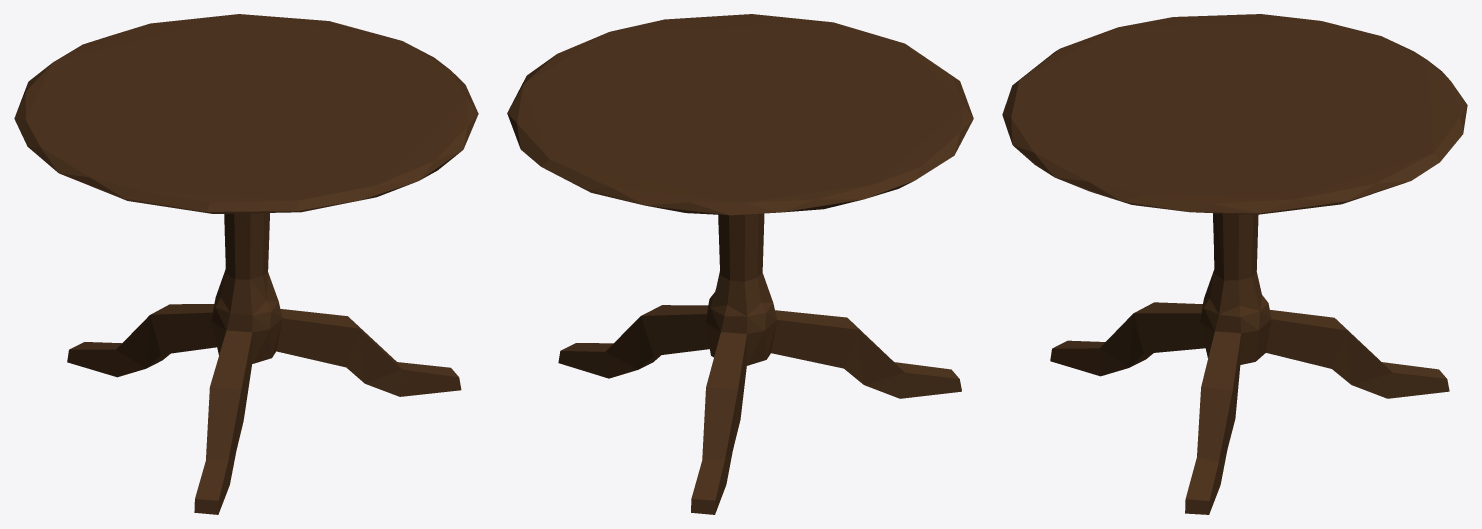
File: mesa_r.fbx
3 renders of one model, left to right at view 1: azimuth 30°, elevation 25°; view 2: azimuth 150°, elevation 25°; view 3: azimuth 270°, elevation 25°, orthographic.
Visible parts, largest first — view 1: Circle; view 2: Circle; view 3: Circle.
Boxes of the visible parts, x1,y1,x2,y2 form: Circle: [14, 14, 478, 514]; Circle: [507, 14, 973, 514]; Circle: [1002, 14, 1467, 514].
Size of the model in its own units: 215 by 159 by 215.
